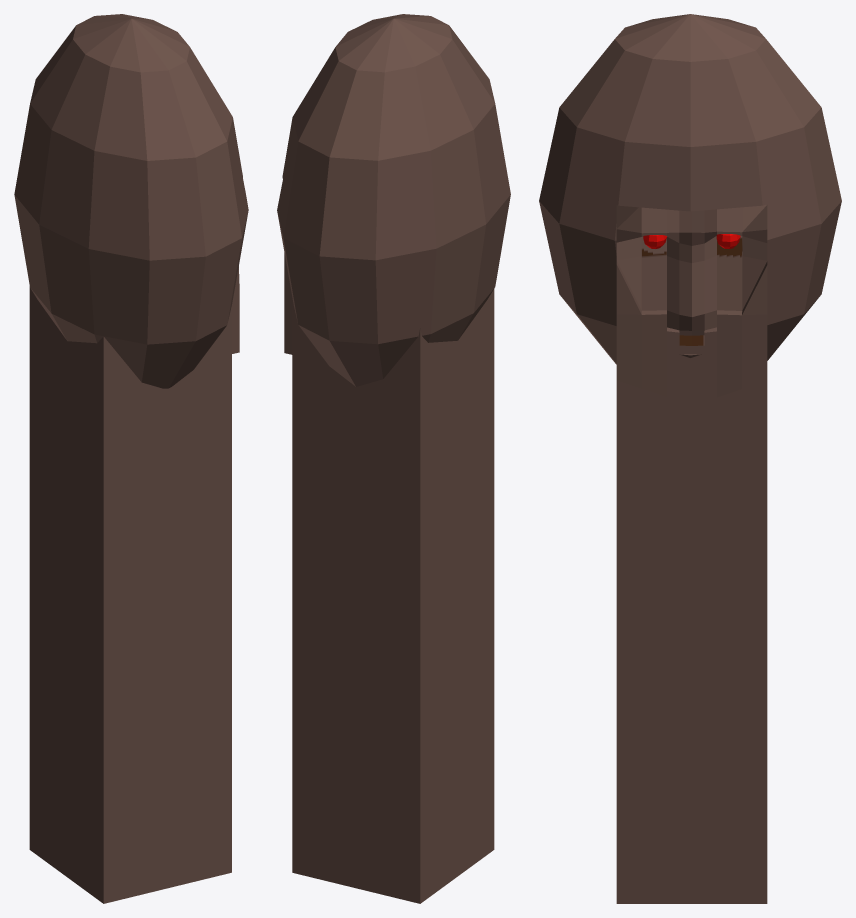
The model's file is idol_2.fbx.
3 renders of one model, left to right at view 1: azimuth 30°, elevation 25°; view 2: azimuth 150°, elevation 25°; view 3: azimuth 270°, elevation 25°, orthographic.
Parts seen in each view (by area): view 1: Cube; view 2: Cube; view 3: Cube.
Boxes of the visible parts, <box> form: Cube: <box>14,14,248,903</box>; Cube: <box>277,14,510,903</box>; Cube: <box>539,14,841,903</box>.
Bounding box in the file's own units: 281 × 1256 × 402.
2 materials, 1 textured.
